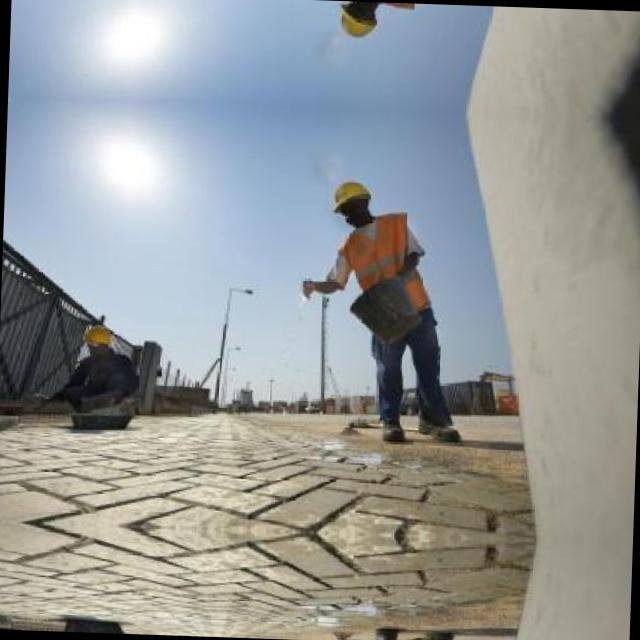helmet: (326, 173, 374, 229), (332, 0, 382, 42), (82, 320, 114, 363)
